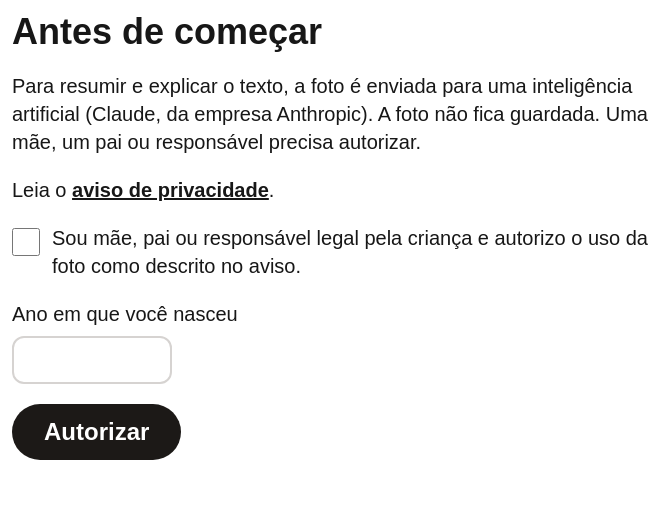
Test: AdultGate › requires the guardian checkbox
The width and height of the screenshot is (665, 525).
Type "1985" into the field labelled "Ano em que você nasceu" at [92, 360], box [12,336,172,384]
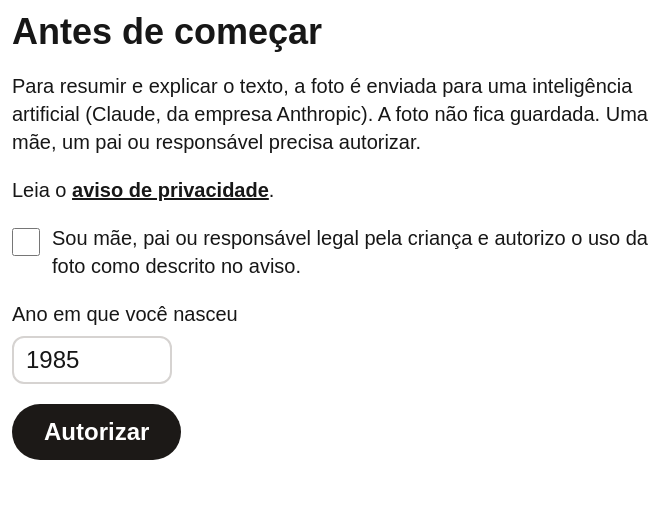
Click the button "Autorizar" at [97, 432], box [12,404,181,460]
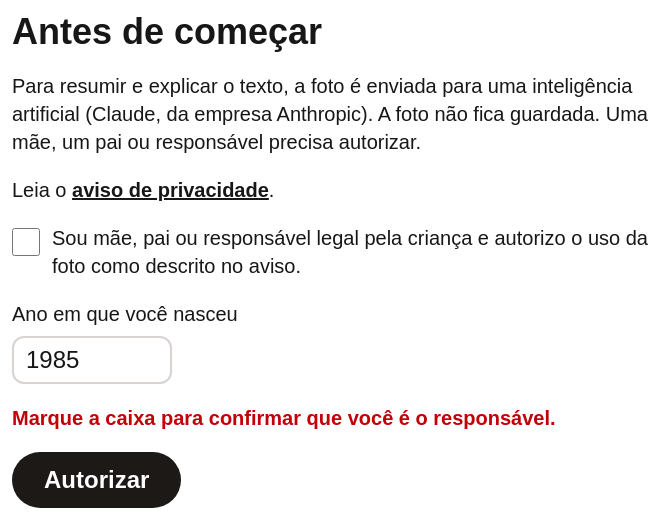
Now the message shows "Marque a caixa", box [12,407,556,429]
